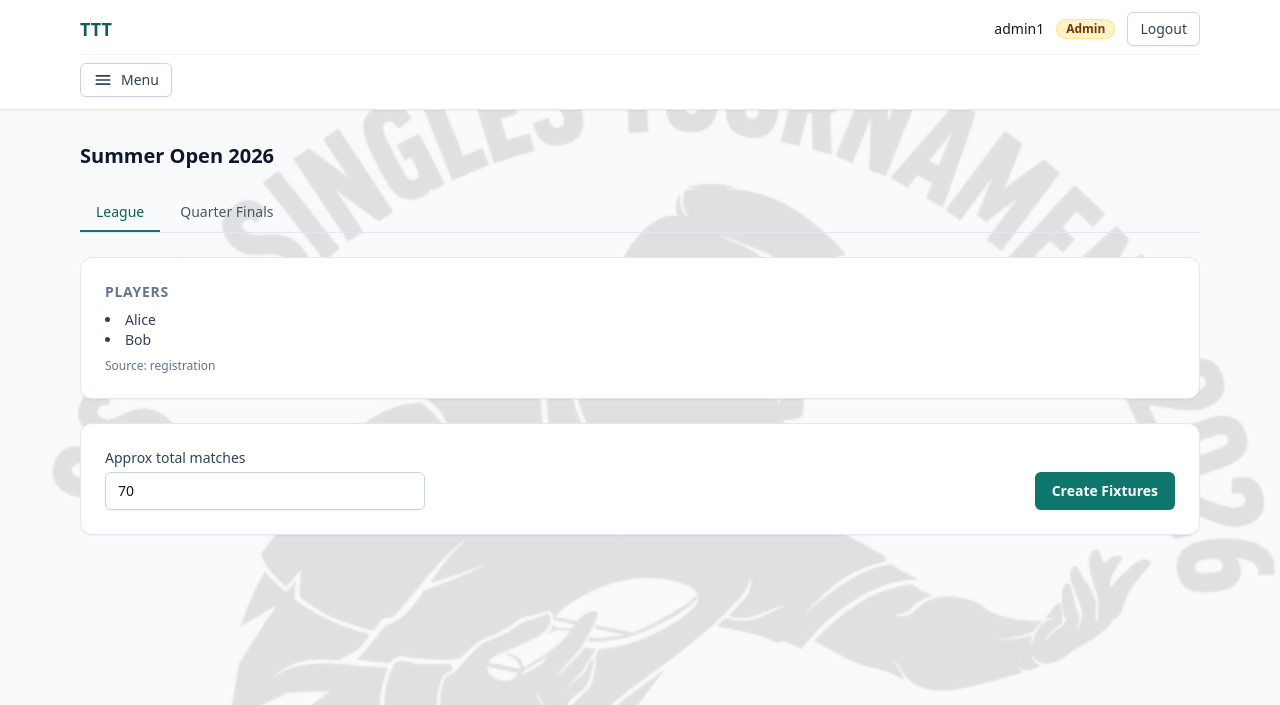
it: Create fixtures › generates fixtures for a league stage
Check: the list item "Alice" is shown, box [125,310,156,329]
What coordinates should you click on to do the following:
click the button "Create Fixtures"
I would click on:
 (1105, 491)
Its box is [1035,472,1175,510].
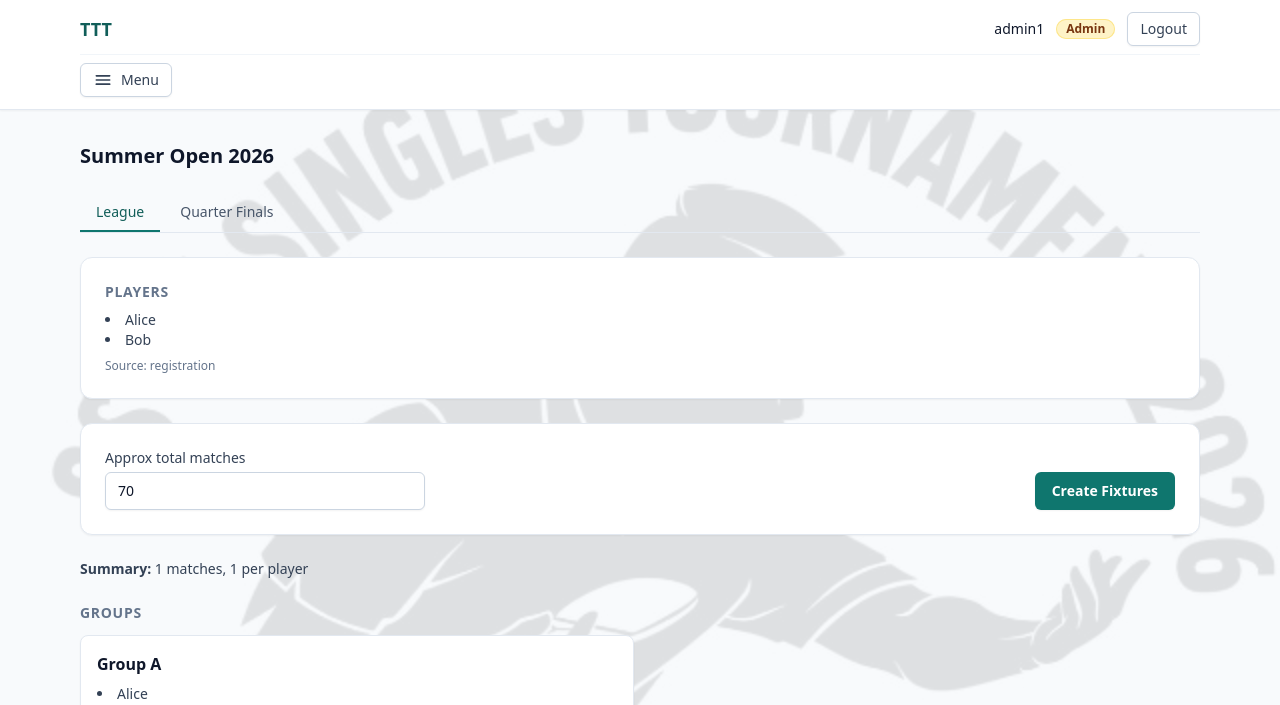
Check: the list item "Bob" below "Players" is shown, box [125,330,151,349]
Check: the text "Summary:" is shown, box [80,559,151,578]
Check: the heading "Group A" is shown, box [97,653,161,675]
